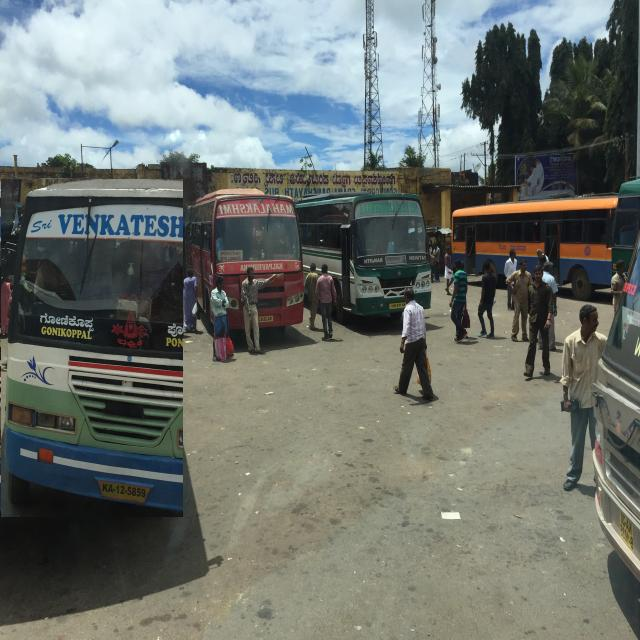bus: (0, 179, 183, 517), (185, 193, 304, 351), (452, 197, 619, 302), (303, 192, 431, 323)
